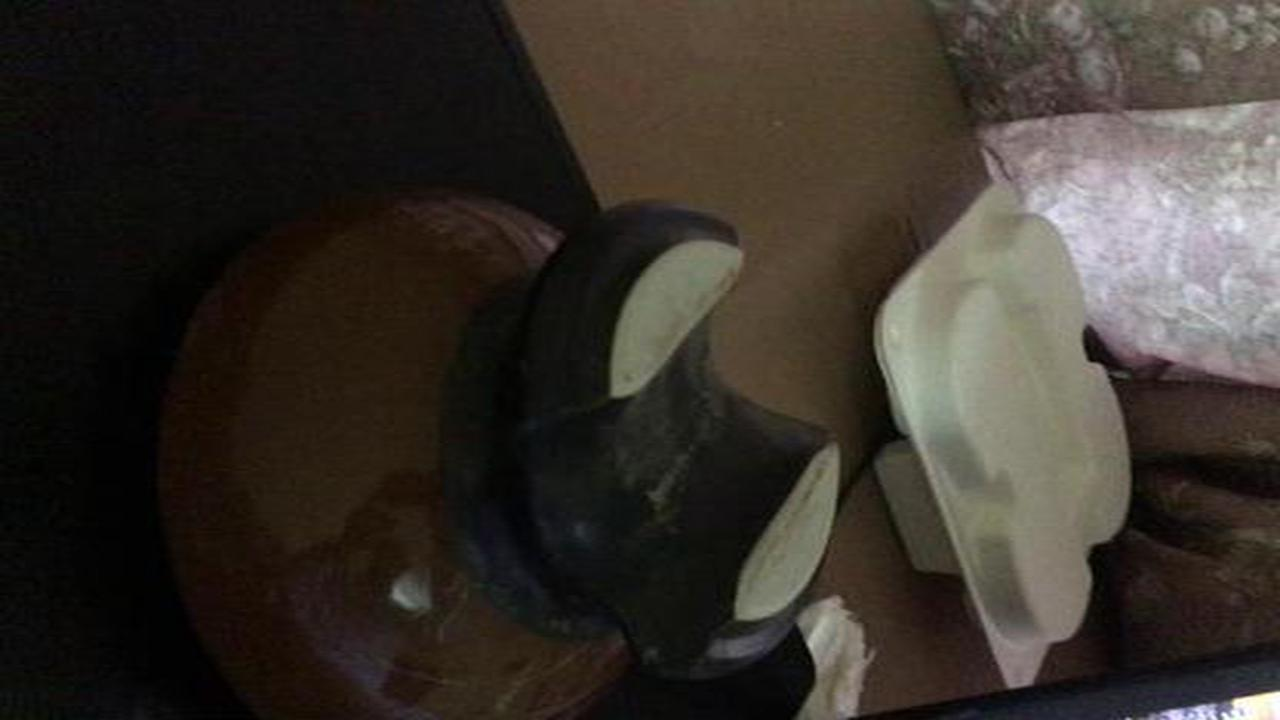insulator_pin: (138, 172, 865, 717)
